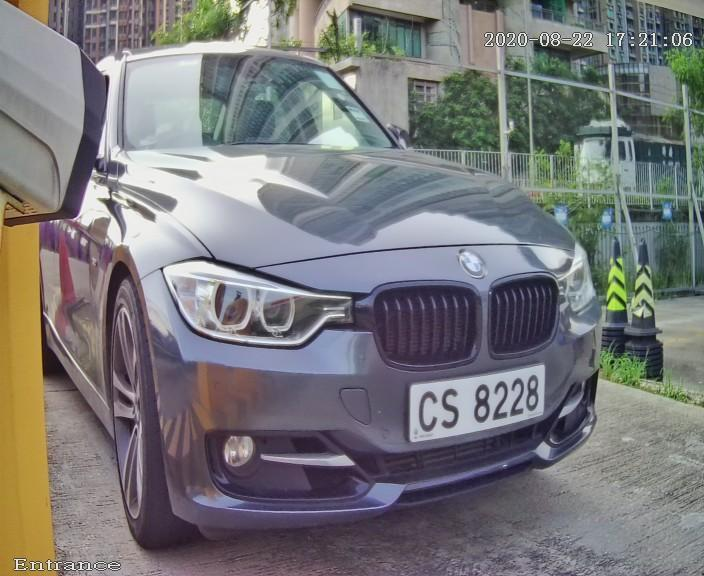Car: (16, 6, 661, 569)
License Plate: (403, 355, 547, 448)
